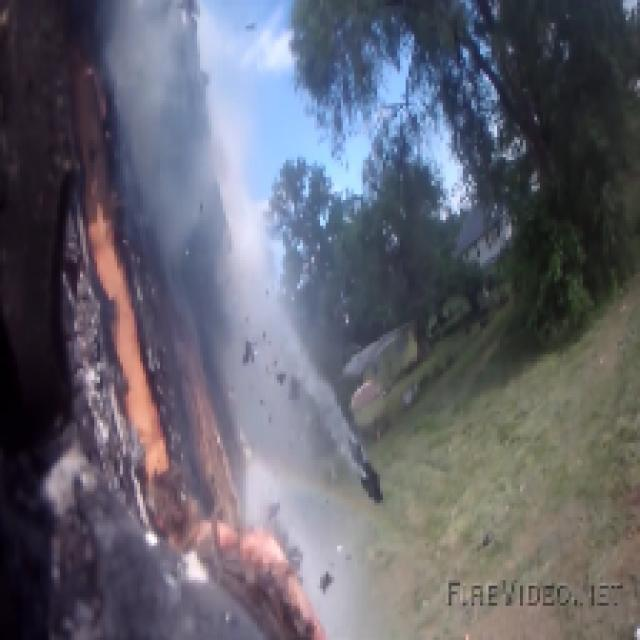Smoke: (217, 240, 312, 506), (125, 22, 208, 228)
